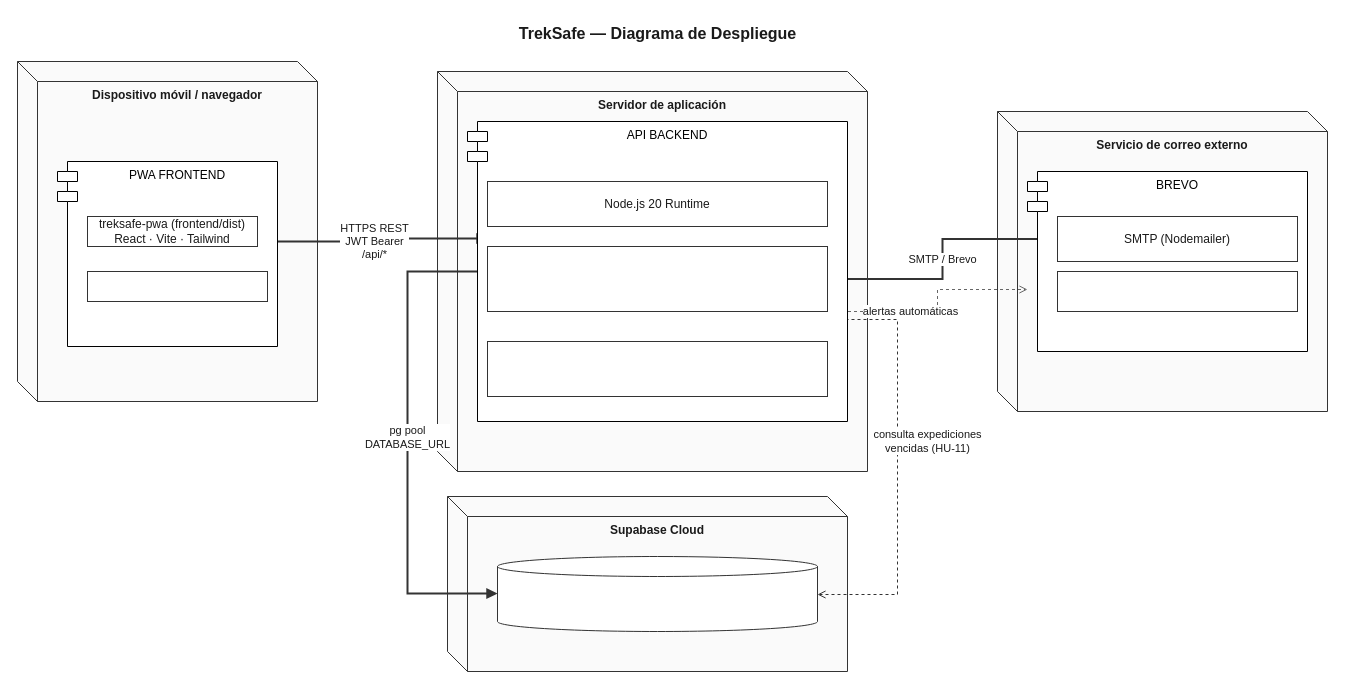
Some shapes in this 1345 by 689 pixel diagram are drawn without their labels. The centre of each missing label's shape, as x and y in pixels:
Base de Datos PostgreSQL: the point at 657,594
Brevo API (alternativa): the point at 1177,291
Browser (Chrome / Safari mobile): the point at 177,286
Cron Job: the point at 657,368
treksafe-api (backend/dist) Express · TypeScript · JWT · Helmet · CORS: the point at 657,279
